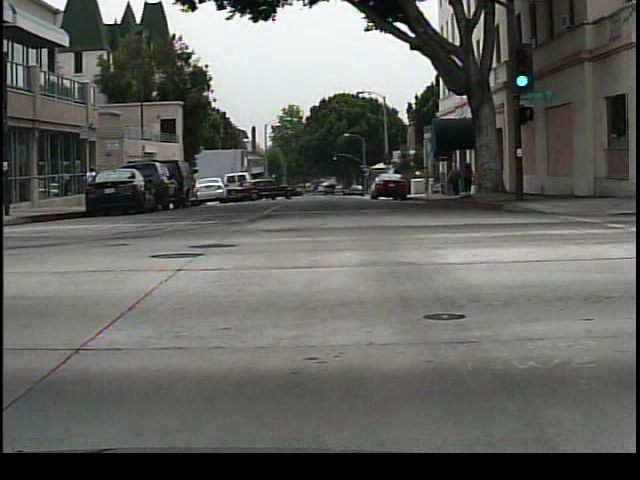person: (81, 159, 106, 206), (444, 166, 464, 201), (461, 158, 477, 197)
